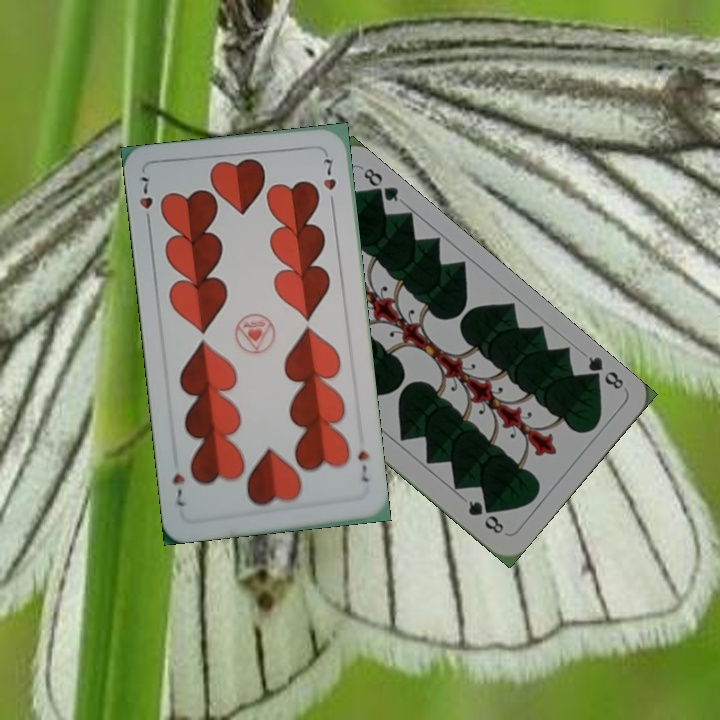G8: (581, 352, 627, 392)
H7: (135, 172, 156, 229), (353, 446, 372, 485)
